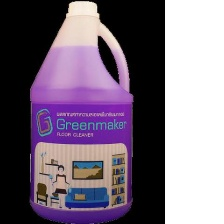cleaning_solution: (27, 0, 135, 223)
